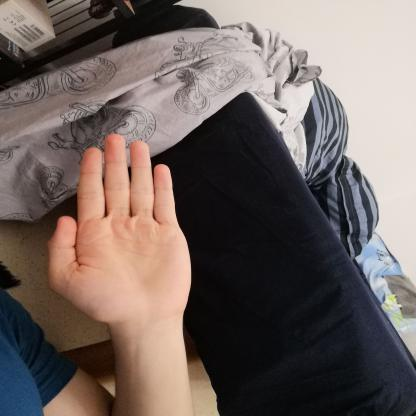SEEN: (32, 124, 202, 333)
